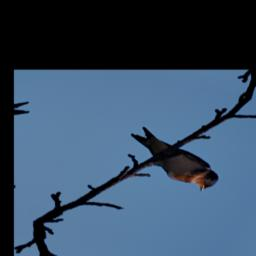Swallow: (105, 125, 241, 193)
